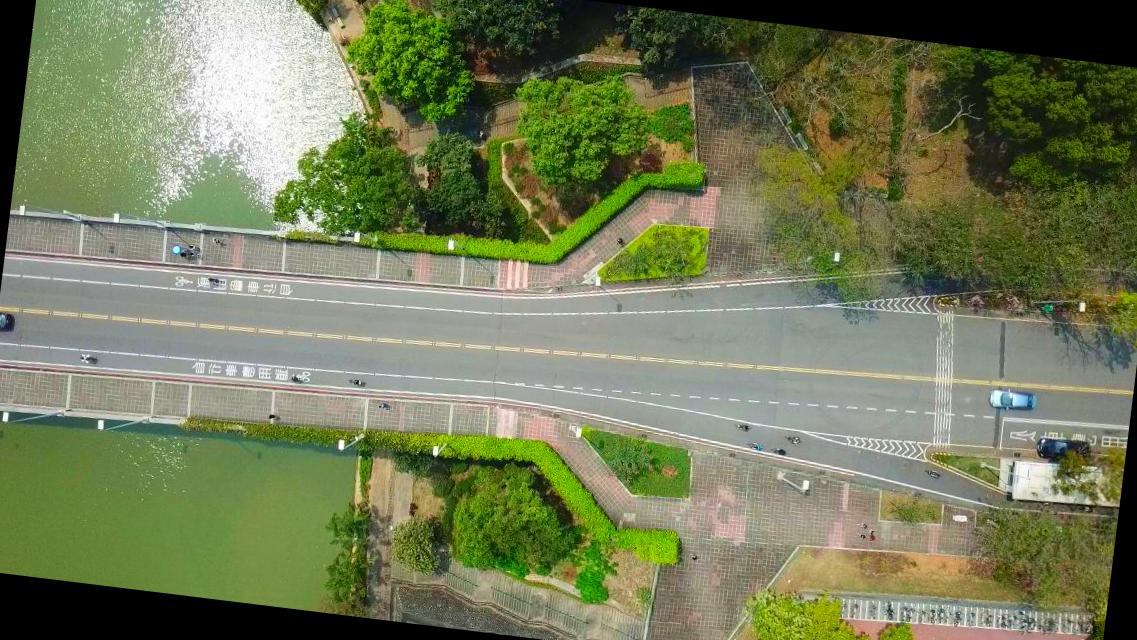vehicle: (1035, 435, 1091, 463), (988, 386, 1036, 414), (0, 309, 12, 334)
